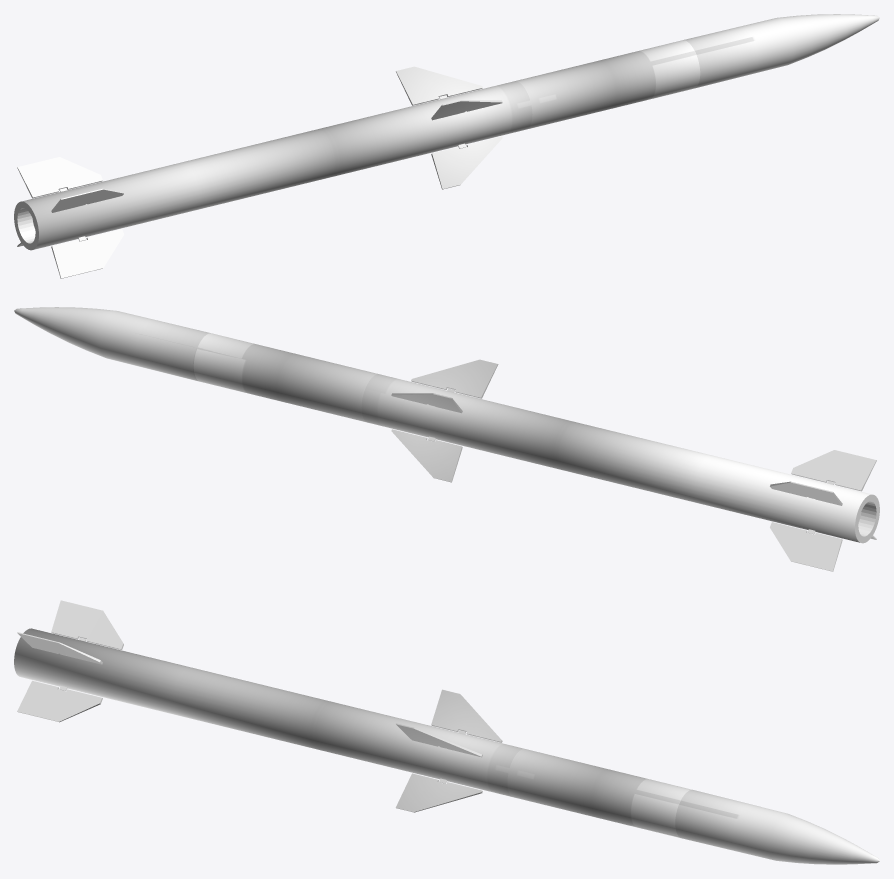
File: AIM-120.glb
3 renders of one model, top to bottom at view 1: azimuth 30°, elevation 25°; view 2: azimuth 150°, elevation 25°; view 3: azimuth 330°, elevation 25°, orthographic.
Visible parts, largest first — view 1: AIM-120.003; view 2: AIM-120.003; view 3: AIM-120.003.
Part boxes in pixels (x1,y1,x2,y2): AIM-120.003: [14, 14, 879, 278]; AIM-120.003: [14, 307, 879, 571]; AIM-120.003: [14, 600, 879, 864].
Size of the model in its own units: 3.65 by 0.3469 by 0.3469.
1 material, 1 textured.
